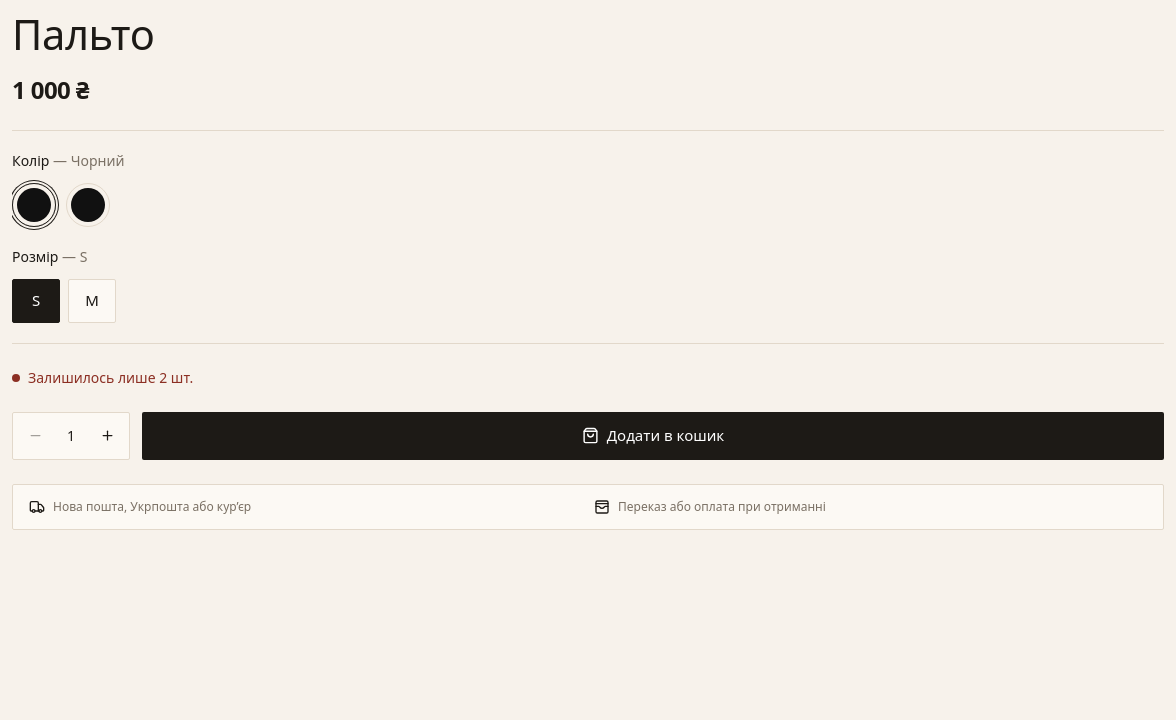
ProductPurchase › stops the quantity at the stock level
The width and height of the screenshot is (1176, 720).
Click the button named "Збільшити кількість": (107, 436) [85,414,129,458]
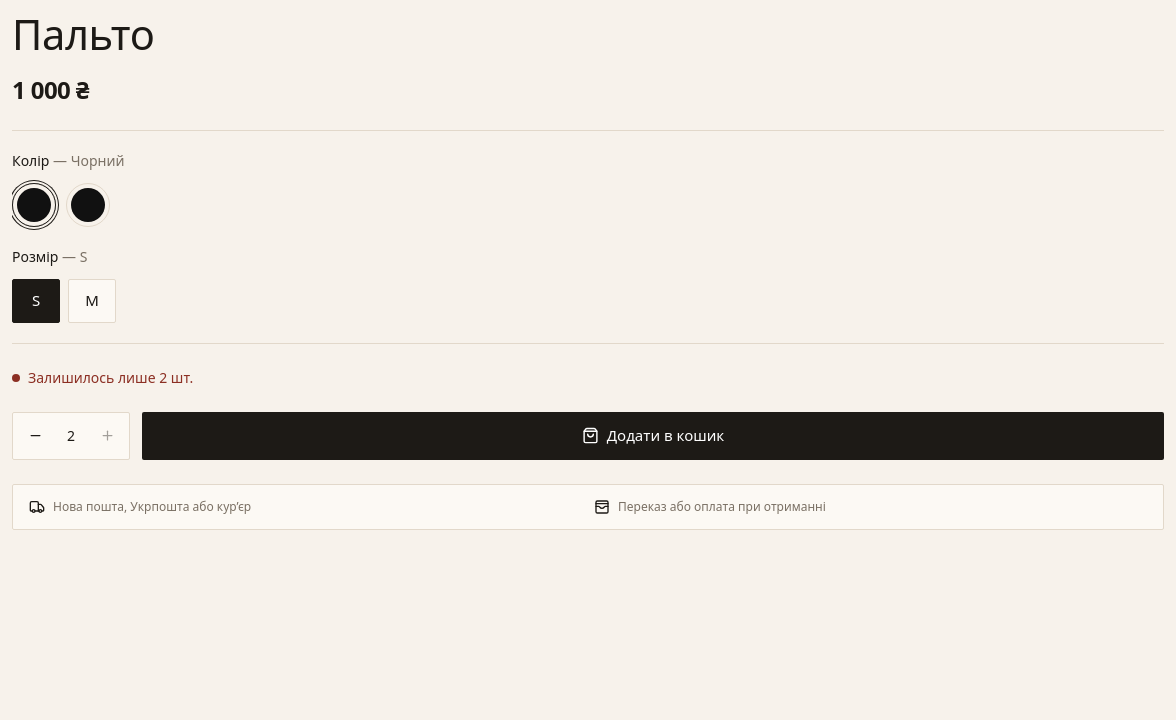
Expected: the button named "Збільшити кількість" is disabled, [85,414,129,458]
Expected: the text named "Кількість" reads "2", [67,426,75,445]
